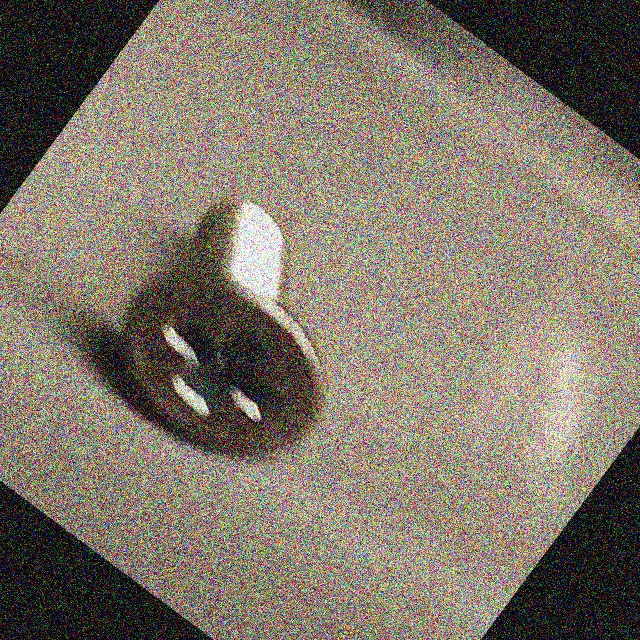phillips: (83, 233, 366, 503)
